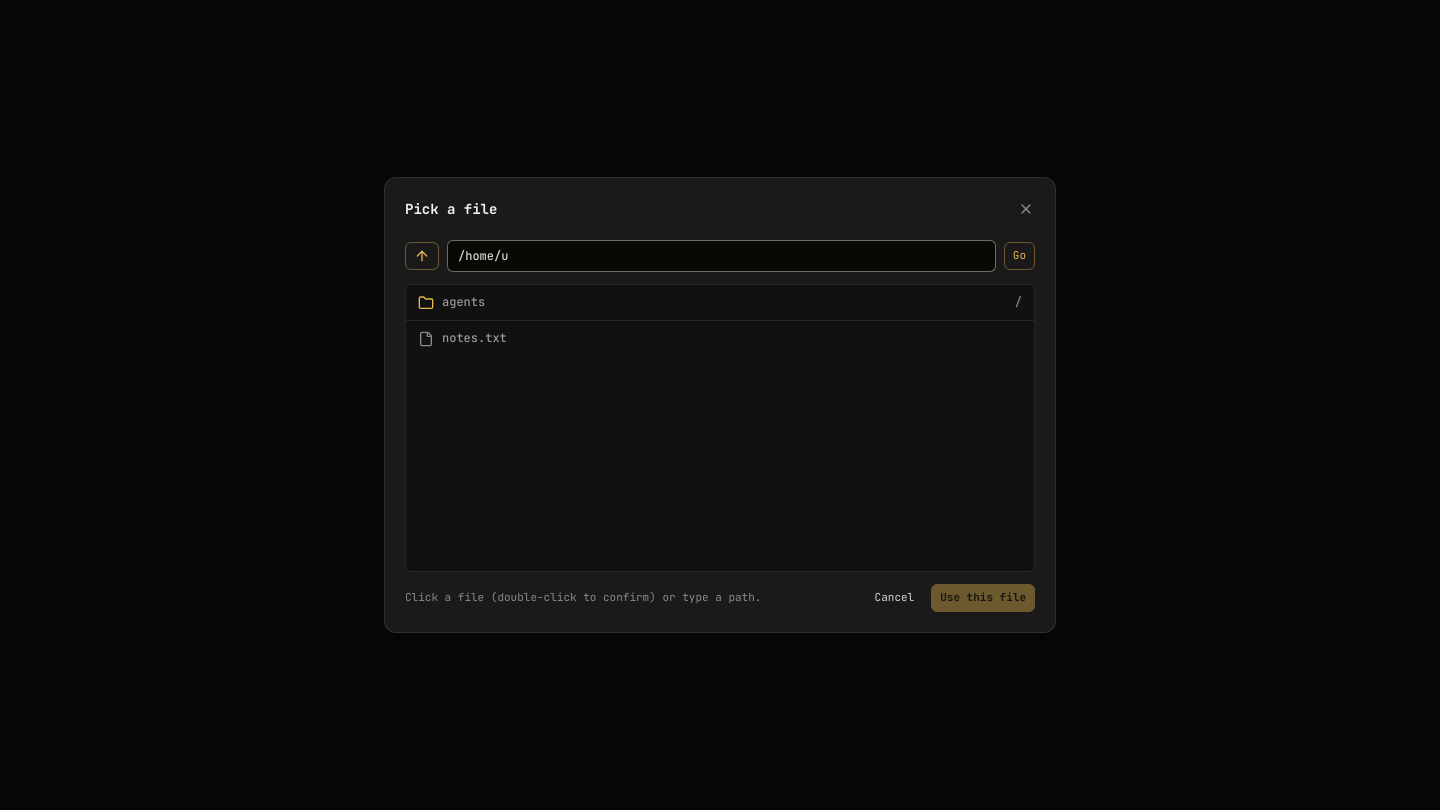
it: FileBrowser › navigates to a pasted directory path with Go
This screenshot has width=1440, height=810.
Check: the text "agents" is shown, box top-left (442, 293), bottom-right (485, 312)
Replace the text in the field named "path" with "/home/u/agents" at (721, 256), box top-left (447, 240), bottom-right (996, 272)
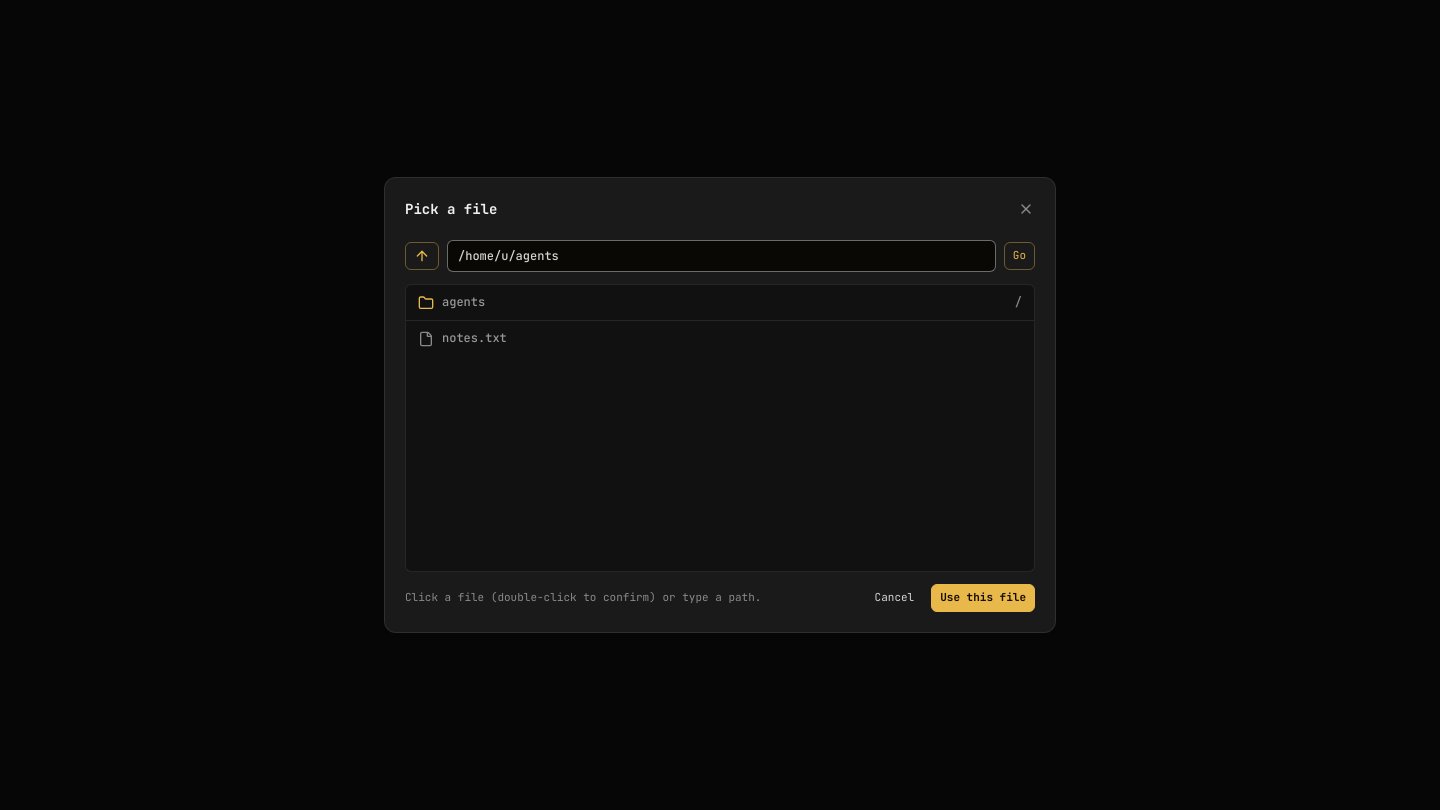
Click the button "Go" at (1019, 256), box top-left (1004, 242), bottom-right (1035, 270)
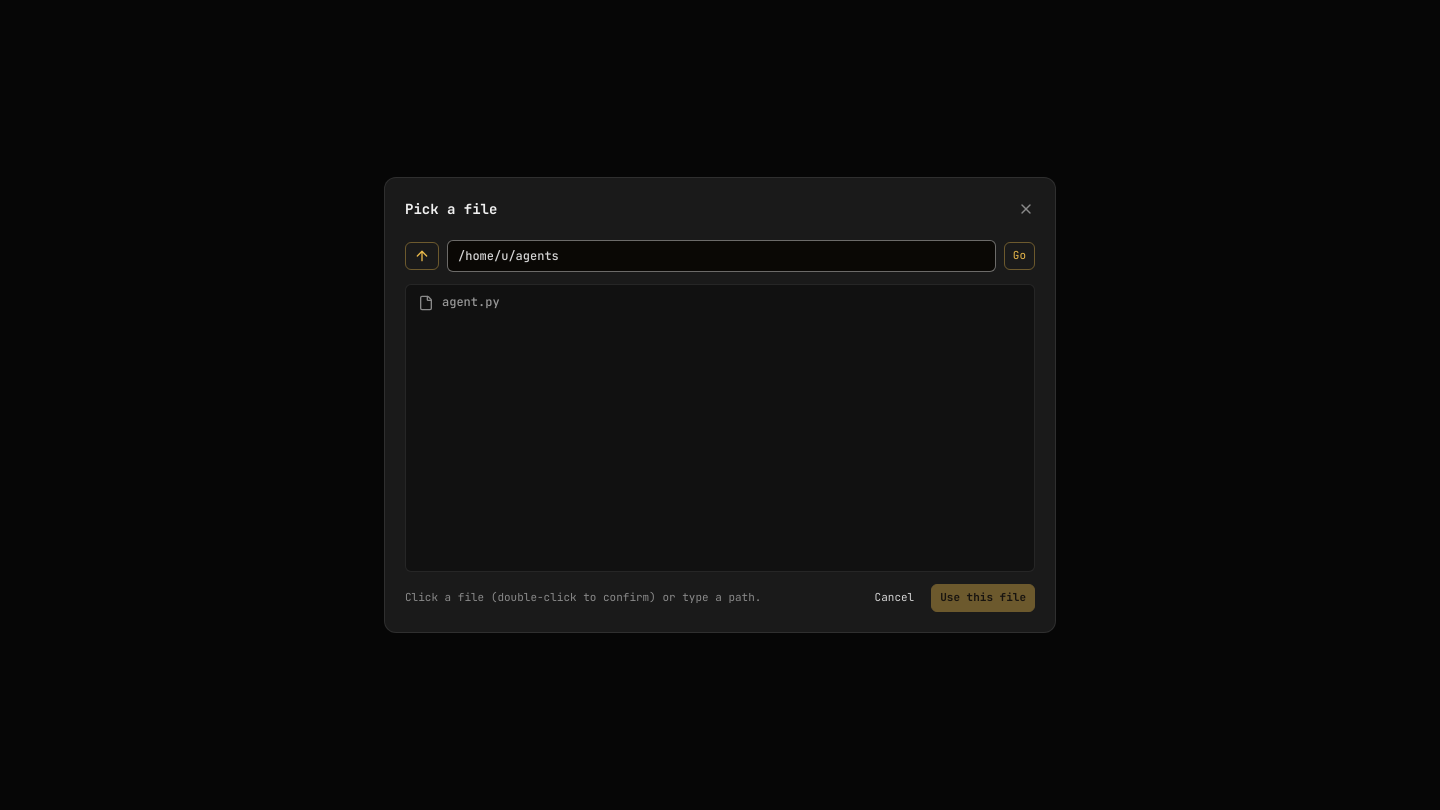
Check: the text "agent.py" is shown, box top-left (442, 293), bottom-right (500, 312)
